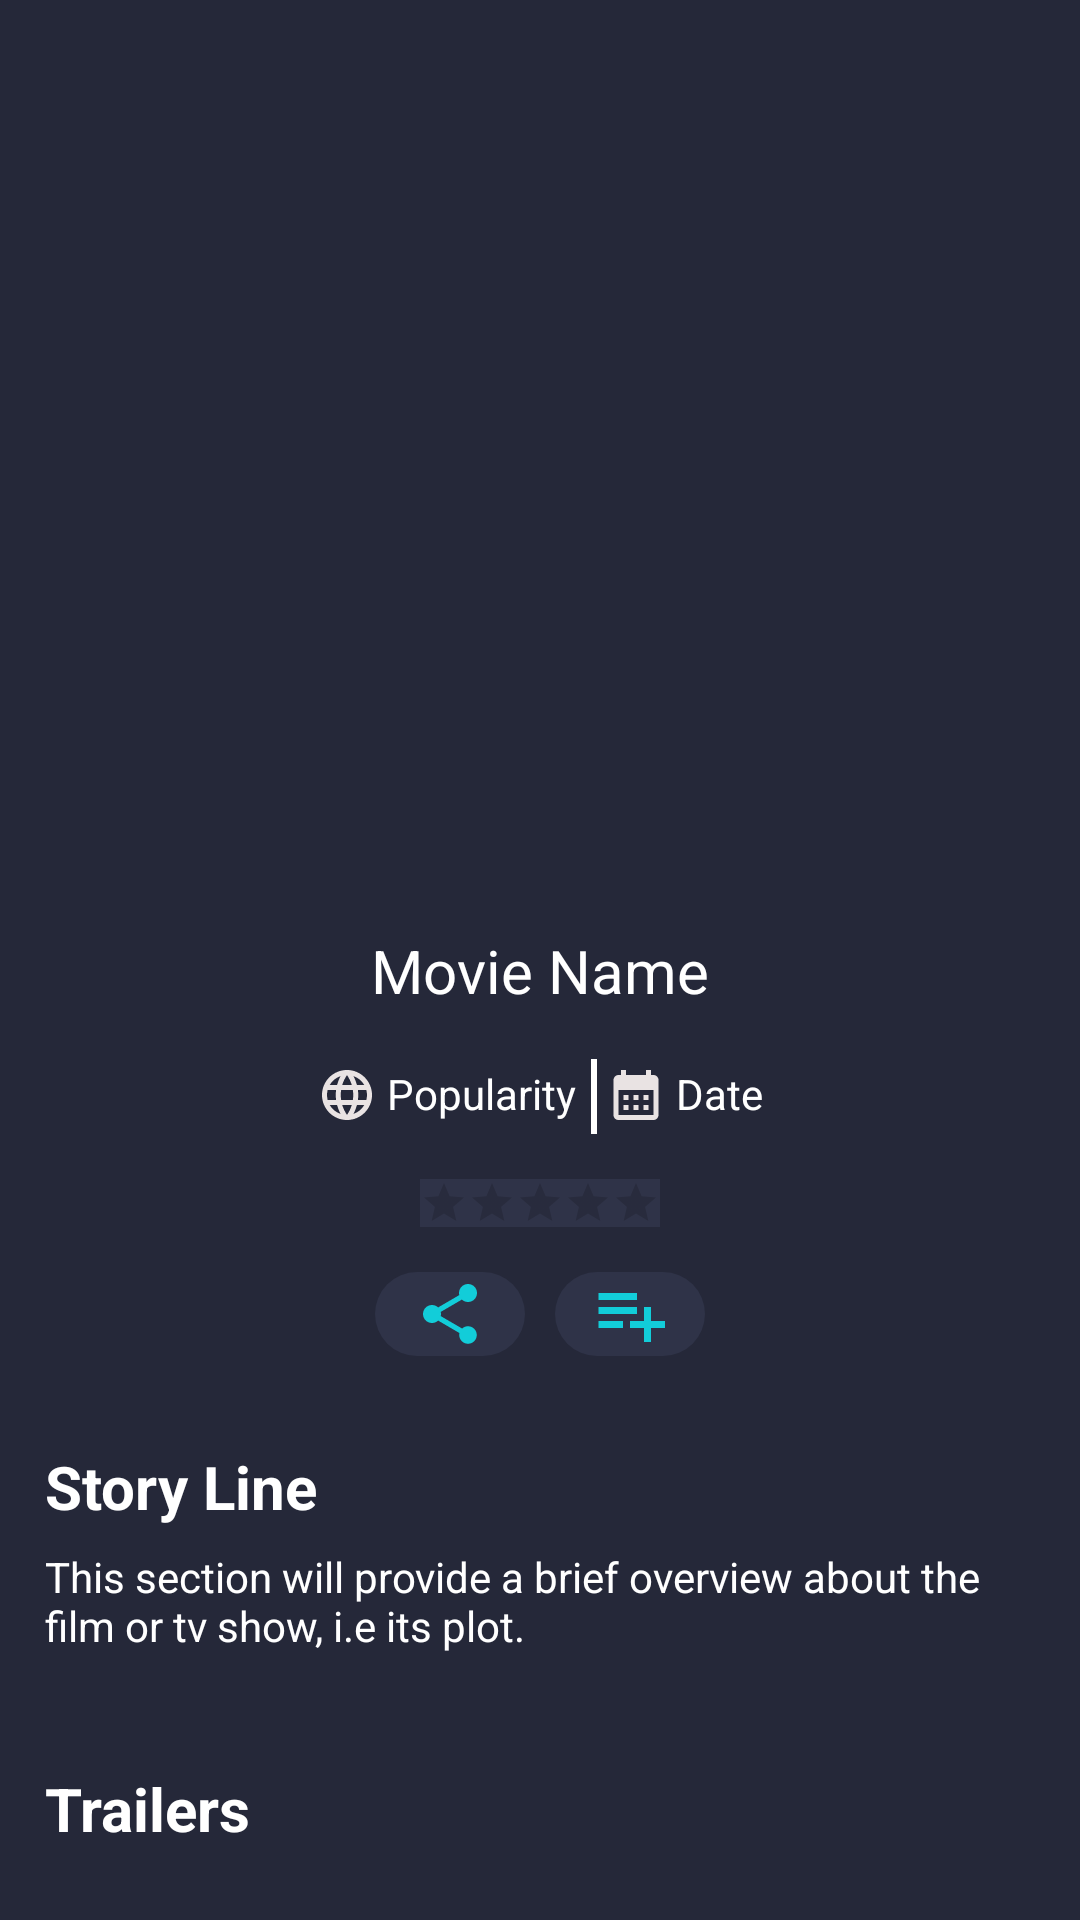

Point at icon controls on the screen. Image size 1080 × 1920, points as point (x, y).
playlist add: point (630, 1314)
share: point (450, 1314)
